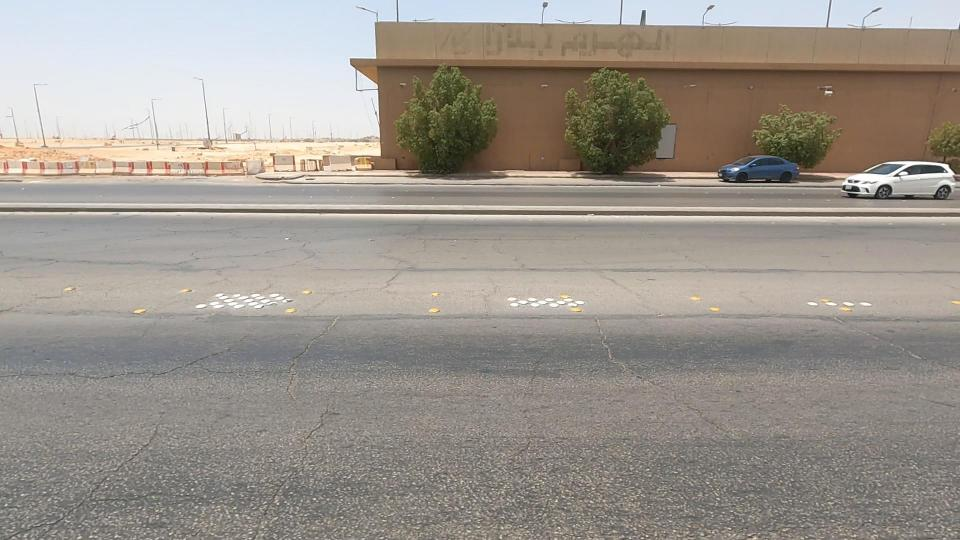BAD_BILLBOARD: (269, 0, 832, 96)
